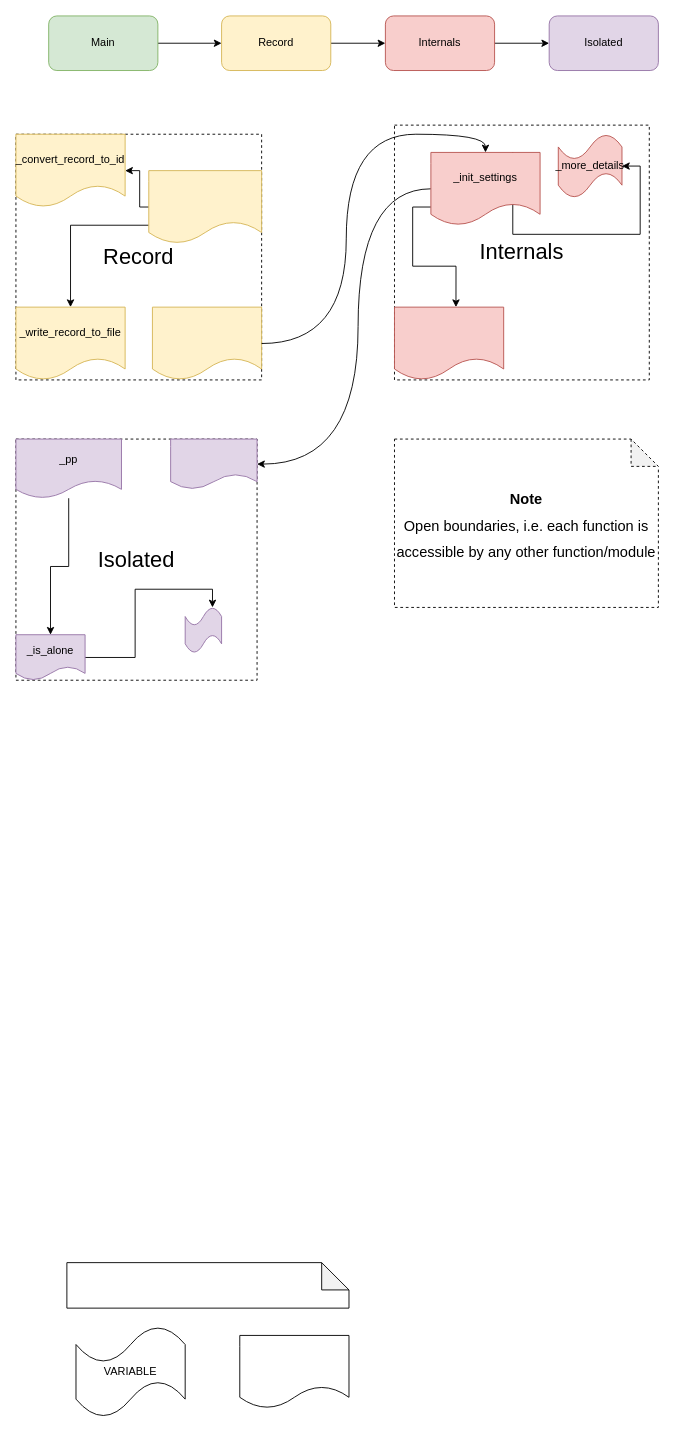
This 674x1433 diagram has some shape labels left out. Each missing label, with the centre of its shape:
"_ALONE" goes at point 203,630.
"_my_business_fun" goes at point 449,343.
"_pp_record" goes at point 207,343.
"_set_alone" goes at point 213,463.
"_store_record" goes at point 205,206.
"Function split" goes at point 294,1371.
"Note" goes at point 207,1285.
